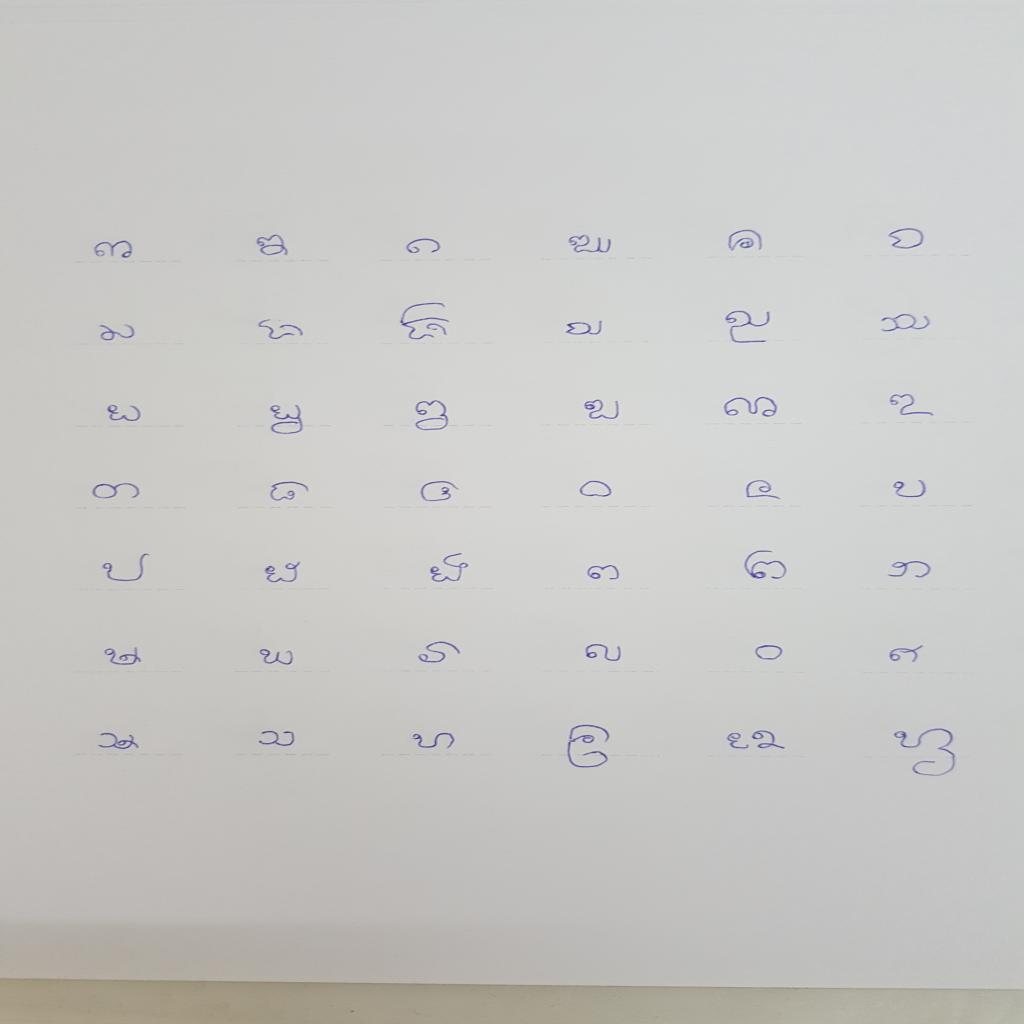LN001: (90, 239, 140, 262)
LN002: (252, 233, 294, 259)
LN003: (402, 237, 446, 257)
LN004: (563, 234, 618, 258)
LN005: (723, 228, 768, 255)
LN006: (887, 227, 929, 252)
LN007: (95, 322, 142, 344)
LN010: (561, 319, 609, 339)
LN011: (719, 308, 779, 347)
LN013: (101, 404, 148, 425)
LN014: (264, 402, 310, 438)
LN015: (410, 400, 455, 434)
LN016: (579, 398, 626, 424)
LN017: (719, 396, 784, 421)
LN018: (884, 392, 941, 421)
LN019: (87, 481, 146, 503)
LN020: (265, 480, 315, 505)
LN021: (416, 479, 464, 505)
LN023: (741, 479, 787, 504)
LN024: (889, 478, 932, 502)
LN025: (99, 552, 157, 586)
LN026: (262, 560, 307, 587)
LN028: (583, 562, 625, 584)
LN029: (740, 549, 793, 584)
LN031: (100, 646, 148, 669)
LN032: (256, 647, 300, 669)
LN034: (580, 642, 628, 665)
LN035: (751, 643, 788, 664)
LN036: (886, 644, 929, 667)
LN037: (94, 731, 146, 753)
LN038: (254, 728, 301, 750)
LN039: (409, 731, 462, 753)
